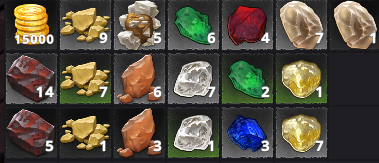cinnabar mineral: (7, 54, 55, 102), (7, 109, 56, 155)
diamond gem: (169, 109, 218, 155), (170, 55, 217, 101)
dolomite mineral: (115, 1, 164, 49)
emerald gem: (169, 1, 218, 48), (224, 54, 271, 100)
gold: (6, 1, 55, 48)
halite mineral: (278, 2, 325, 48), (332, 2, 378, 48)
nitre mineral: (115, 109, 164, 157), (116, 54, 162, 102)
ruby gem: (225, 2, 271, 48)
sapphire gem: (223, 108, 270, 155)
sulphur mineral: (61, 109, 111, 157), (60, 1, 110, 48), (61, 54, 110, 101)
topaz gem: (278, 109, 324, 156), (278, 55, 324, 101)
